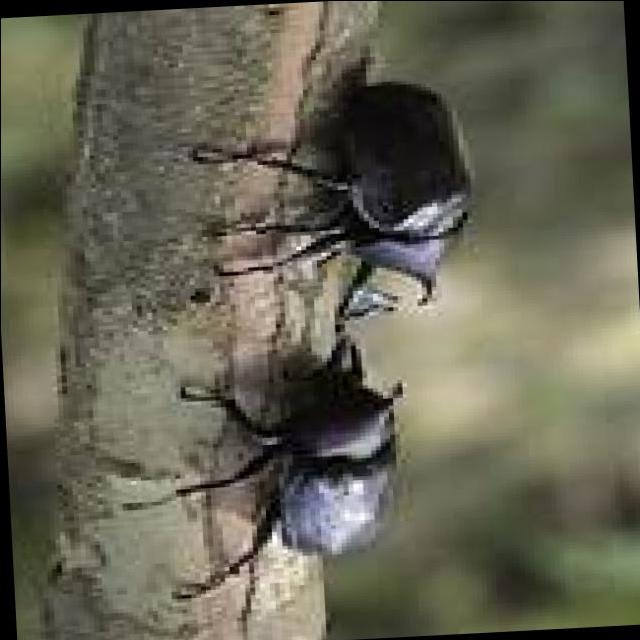Rhino-beetle: (257, 76, 498, 302), (205, 356, 436, 584)
